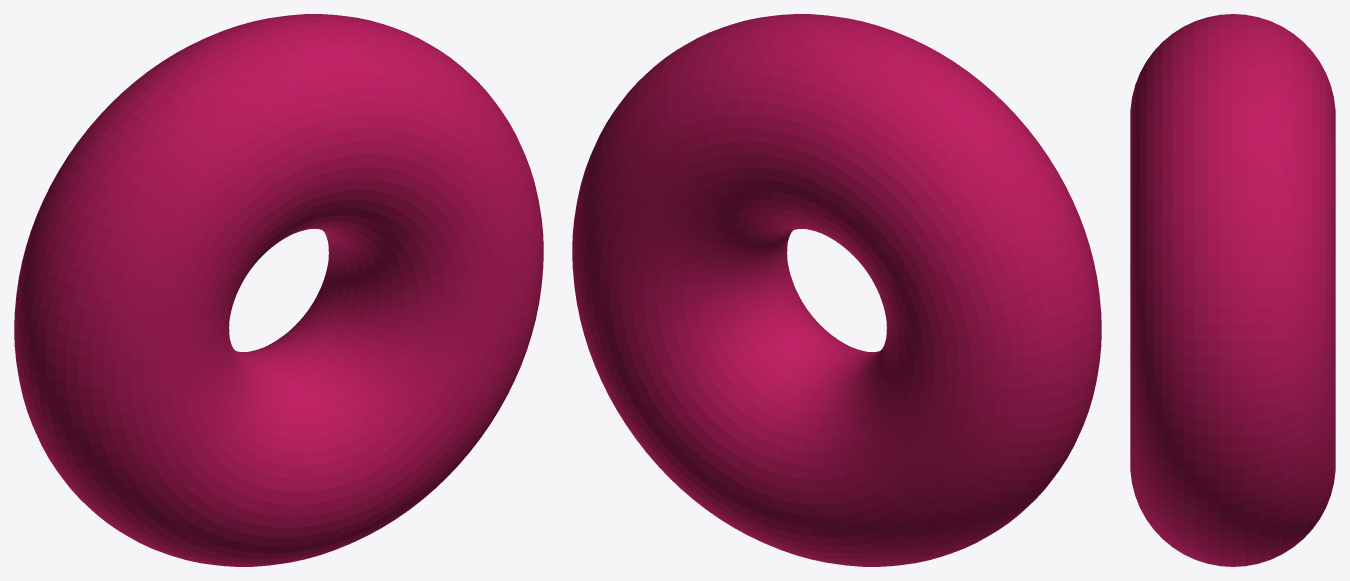
3 views of the same model, side by side, from view 1: azimuth 30°, elevation 25°; view 2: azimuth 150°, elevation 25°; view 3: azimuth 270°, elevation 25° (orthographic). The views are drawn at different scales.
Visible parts, largest first — view 1: world; view 2: world; view 3: world.
Part boxes in pixels (x1,y1,x2,y2): world: (14, 14, 543, 566); world: (572, 14, 1101, 566); world: (1130, 14, 1335, 566).
Bounding box in the file's own units: 25.47 × 25.47 × 9.45.
